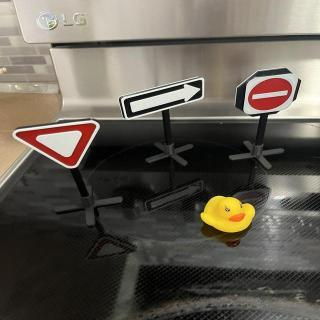duck_regular: (202, 198, 257, 237)
sign_noentry: (241, 71, 303, 116)
sign_oneway_right: (120, 77, 206, 121)
sign_yield: (13, 121, 101, 171)
